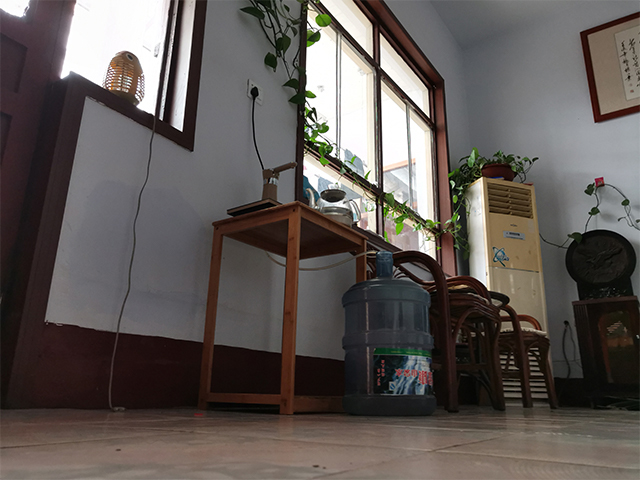cabinet: (568, 294, 640, 411)
stool: (359, 245, 562, 415)
table: (196, 198, 372, 418)
wire: (106, 112, 158, 412), (560, 318, 586, 407)
